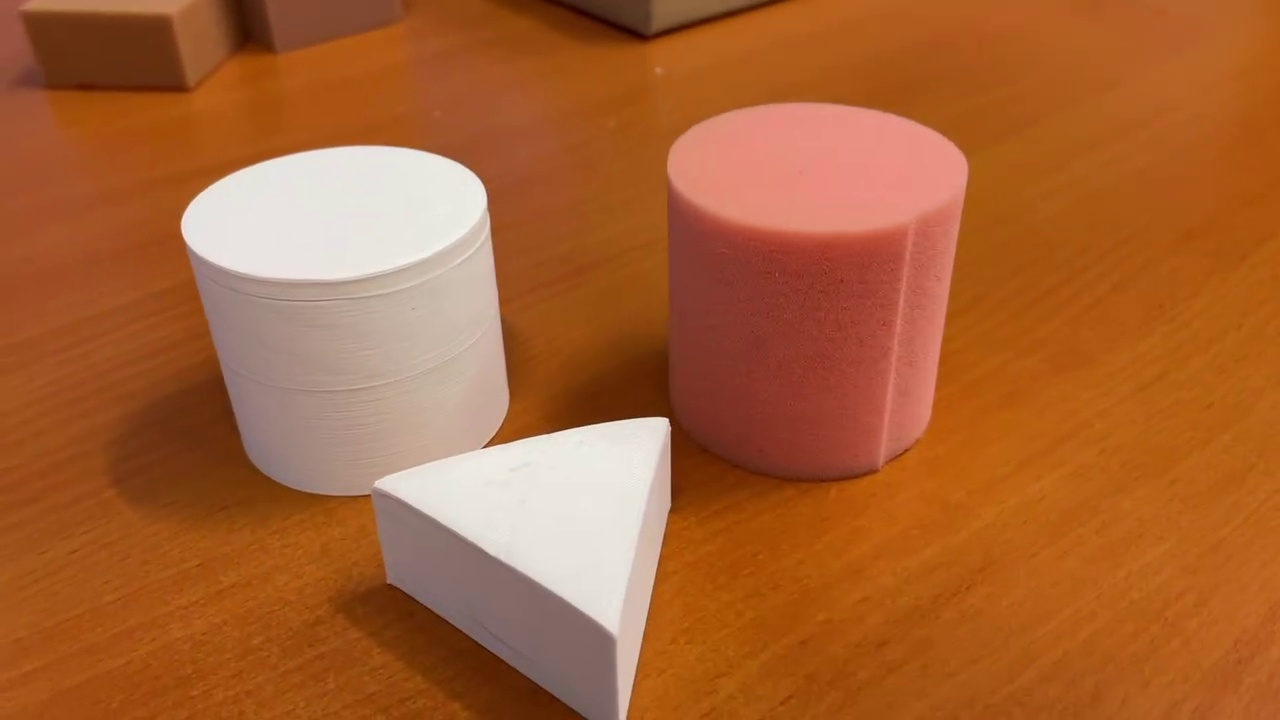Cylinder: (175, 129, 515, 507), (651, 94, 974, 485)
Triangle_short: (368, 409, 673, 720)
